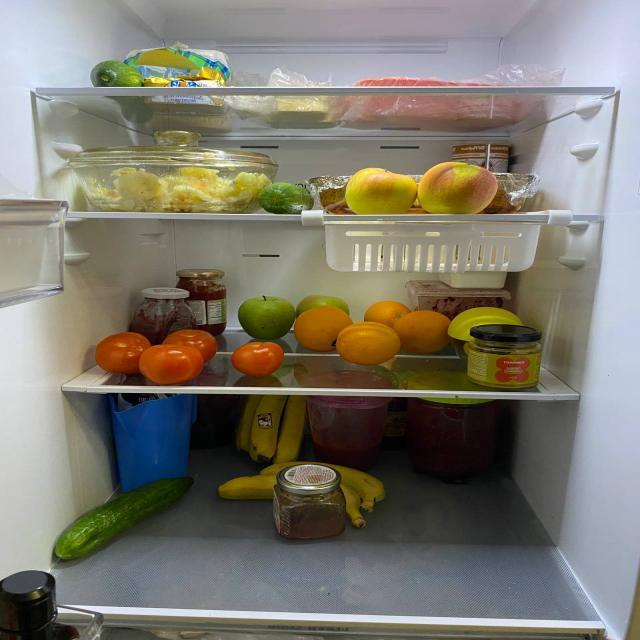Apple: (426, 163, 494, 216), (349, 168, 419, 216), (240, 294, 292, 338), (297, 295, 347, 312)
Banana: (226, 467, 382, 522), (235, 390, 302, 467)
Cucumber: (52, 476, 196, 561), (260, 182, 314, 212), (90, 60, 144, 89)
Orange: (336, 322, 404, 361), (396, 309, 452, 351), (295, 308, 349, 345), (371, 300, 409, 323)
Tomato: (138, 343, 204, 381), (234, 338, 288, 375), (96, 332, 148, 370), (167, 329, 217, 357)
